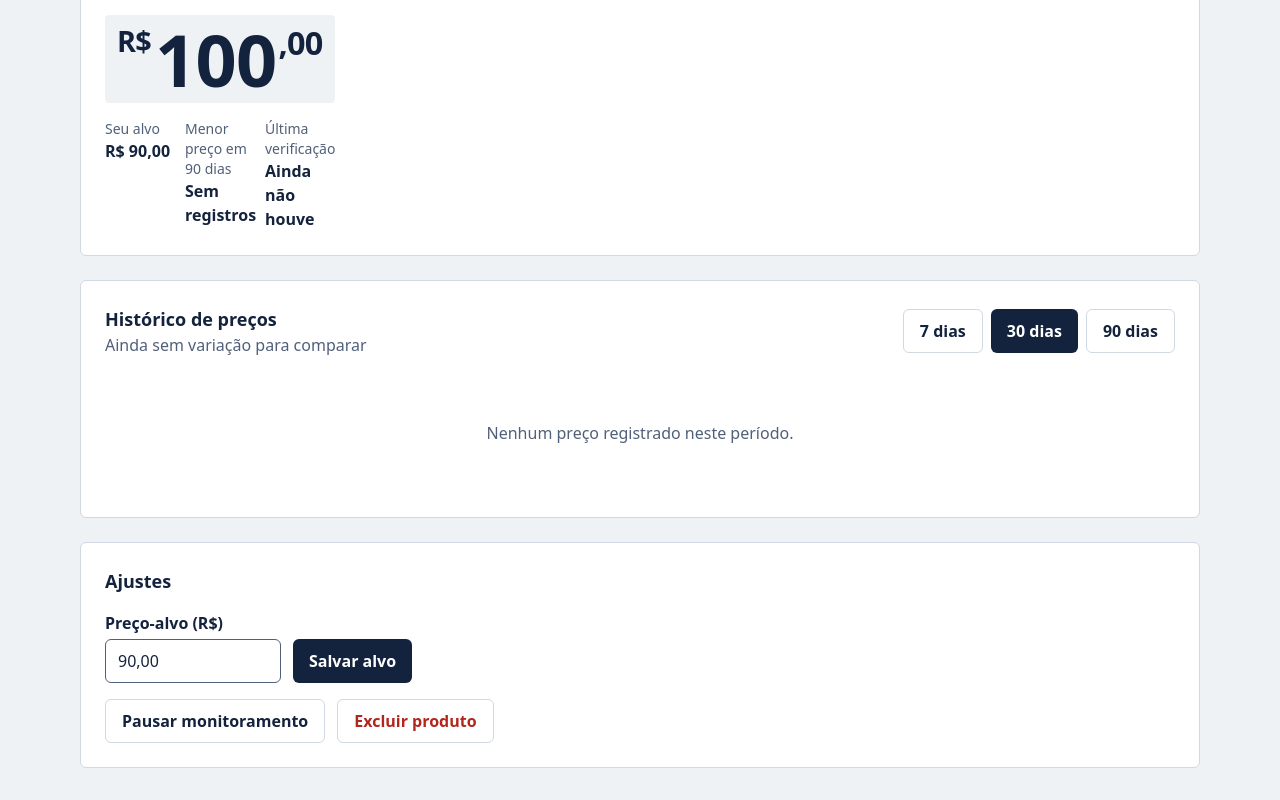
Test: página do produto altera o alvo e pede confirmação para excluir
(page scrolled)
Replace the text in the field labelled "Preço-alvo (R$)" with "120" at point(193, 661), box [105,639,281,683]
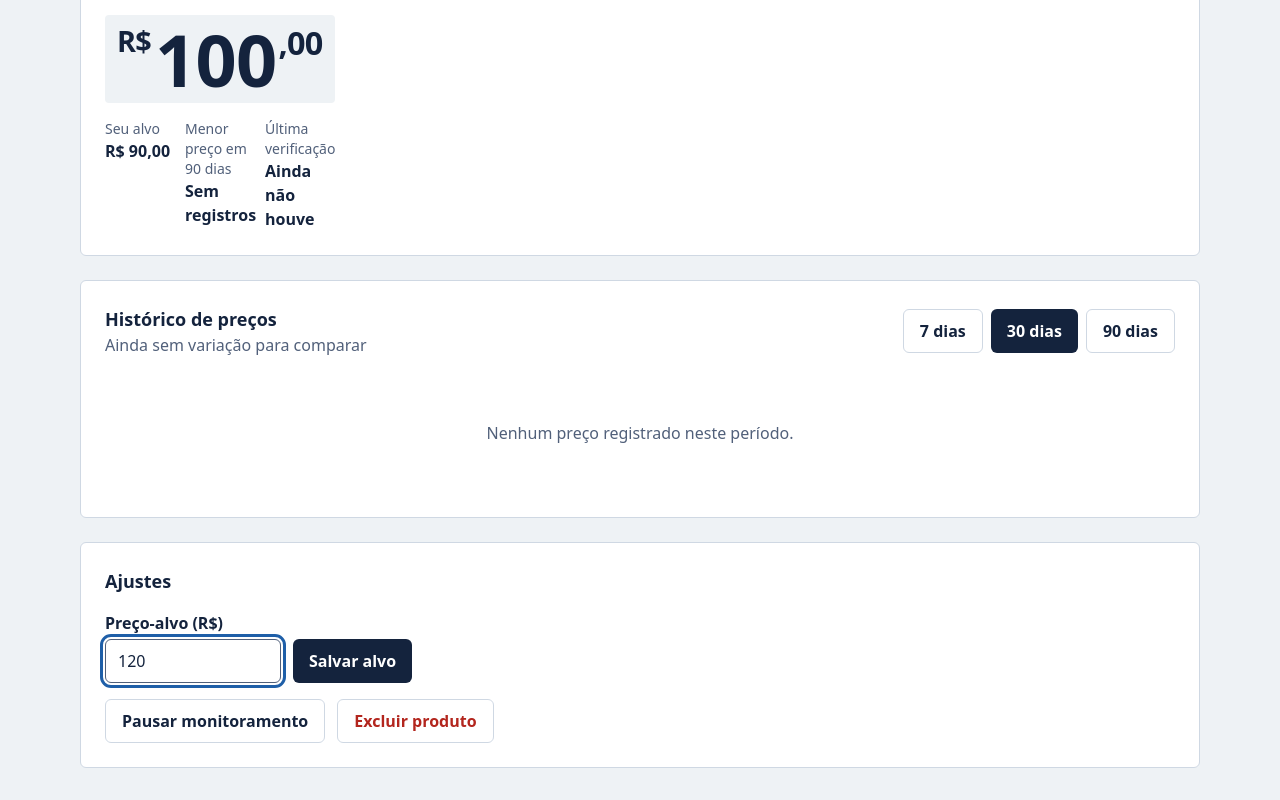
Click the button "Salvar alvo" at point(353, 661), box [293,639,412,683]
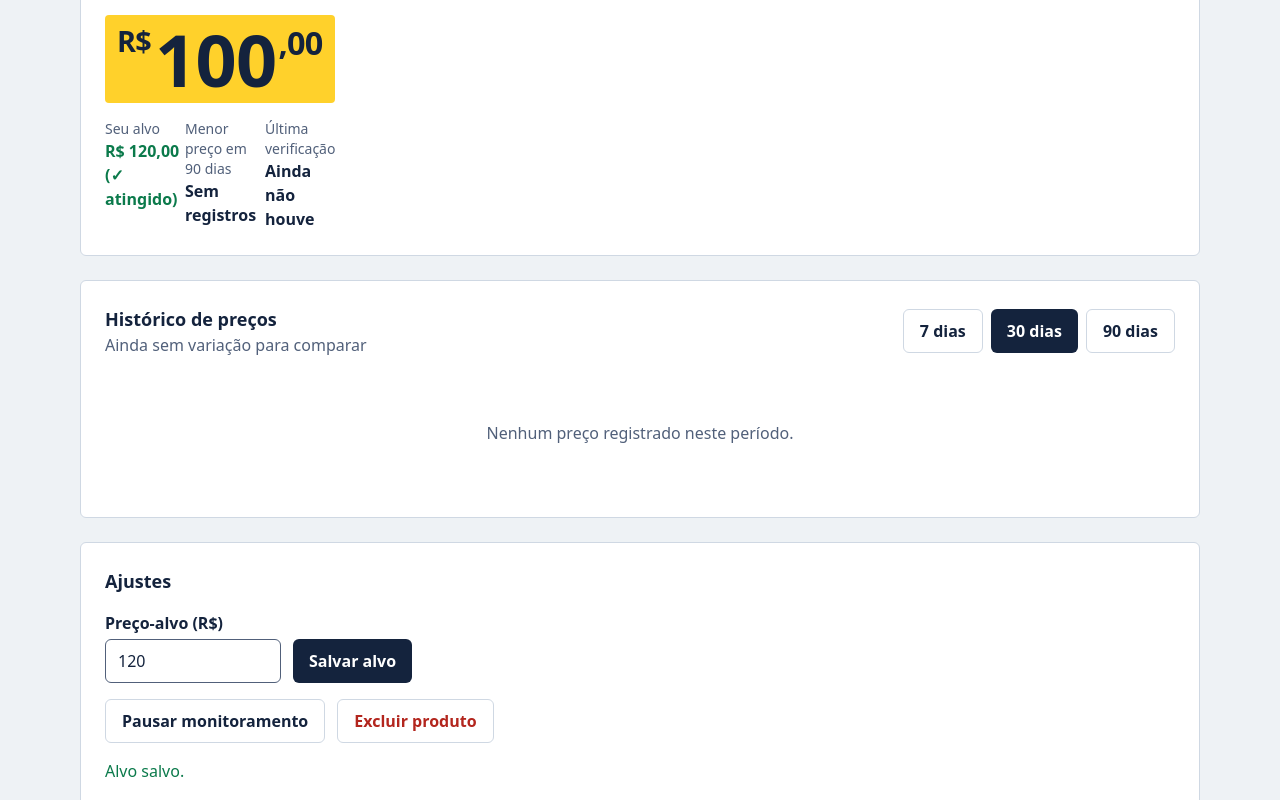
Check: the text "Alvo salvo." is shown, box [105,760,184,782]
Check: the text "R$ 120,00 (✓ atingido)" is shown, box [105,139,169,211]
Click the button "Excluir produto" at point(415, 721), box [337,699,494,743]
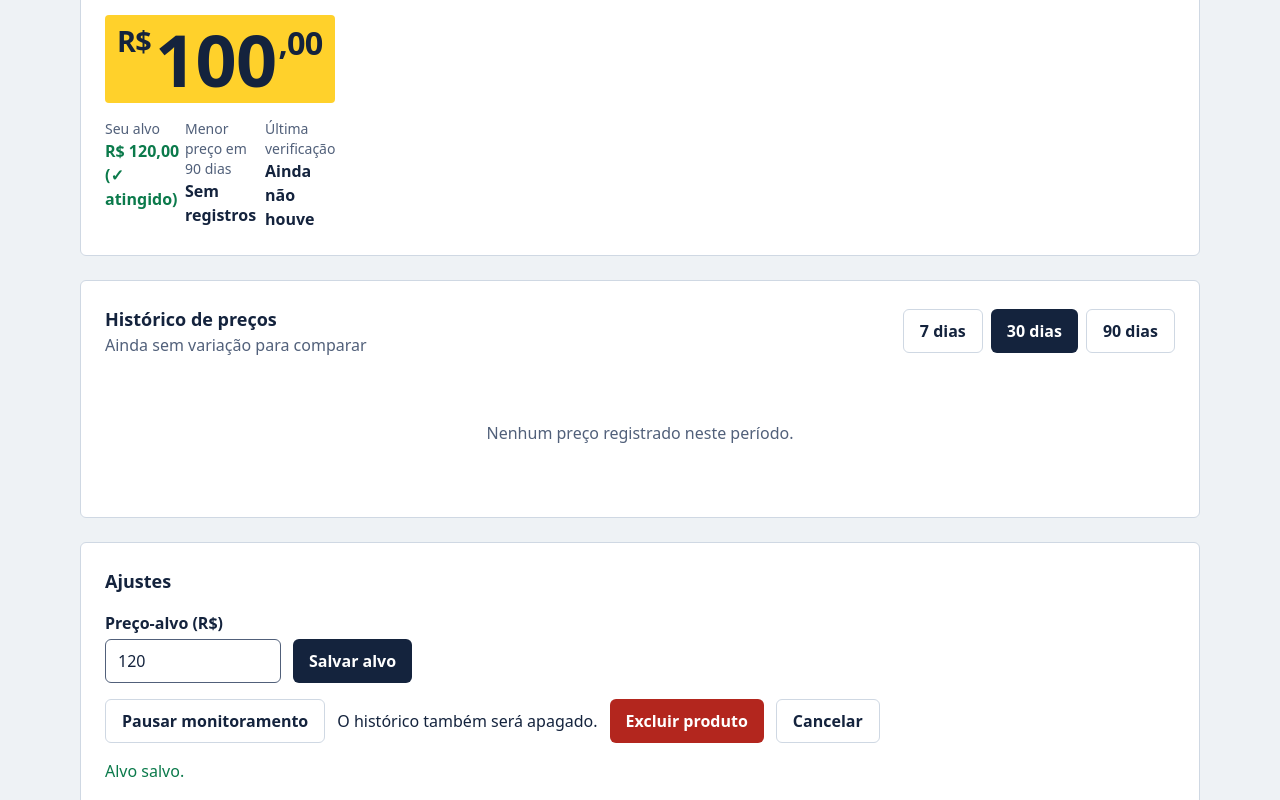
Click the button "Excluir produto" at point(687, 721), box [610,699,764,743]
(page scrolled)
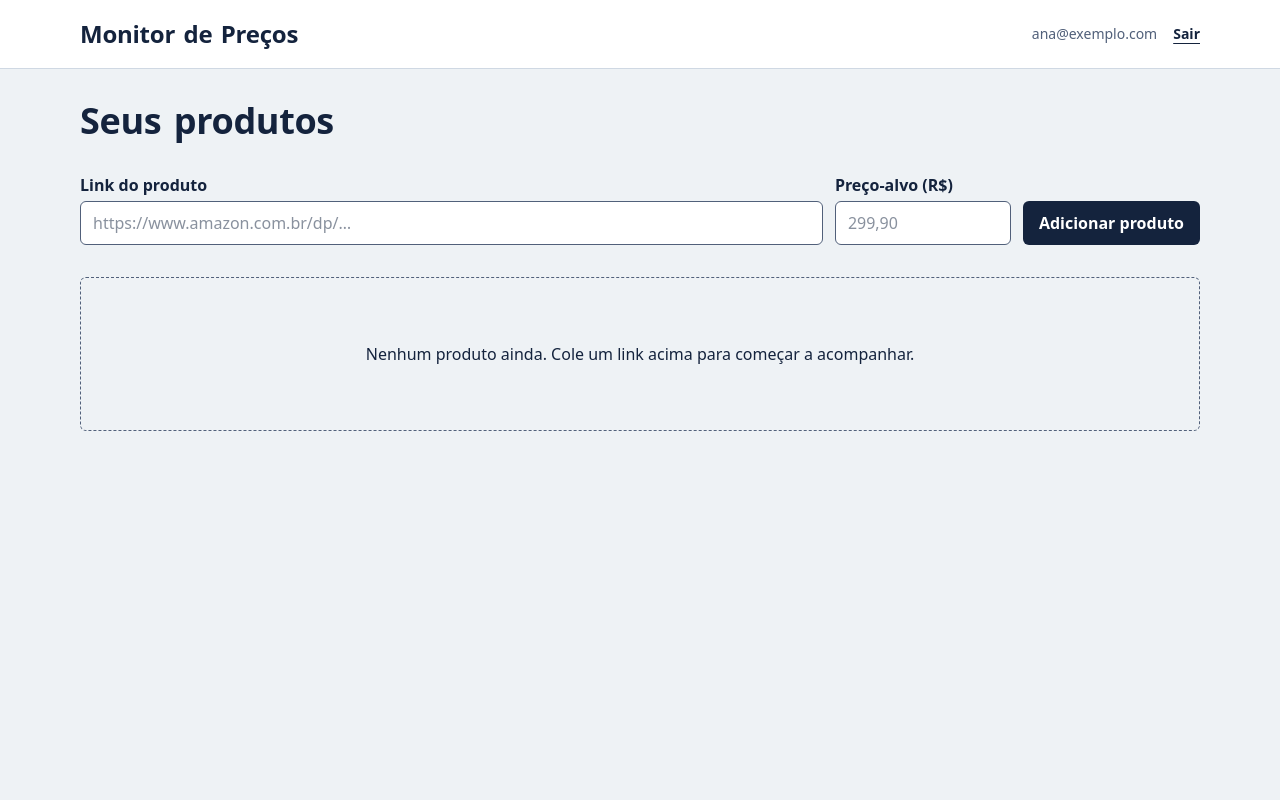
Check: the heading "Seus produtos" is shown, box [80,96,334,145]
